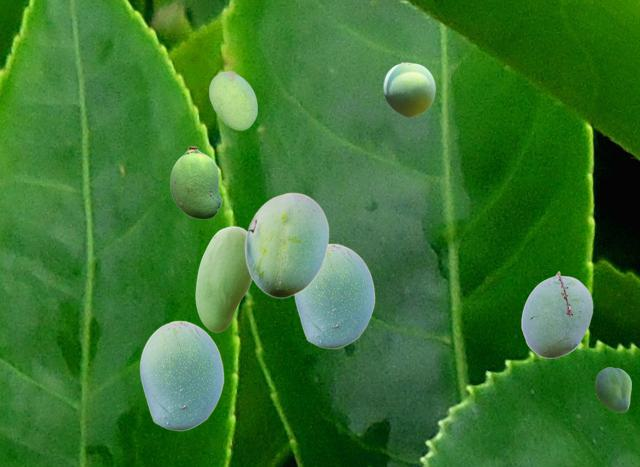green_mango: (139, 320, 223, 430), (244, 192, 328, 297), (294, 243, 374, 348), (521, 271, 592, 357), (195, 226, 252, 331), (170, 146, 221, 218), (383, 62, 434, 116), (209, 71, 256, 129), (595, 367, 630, 411)
